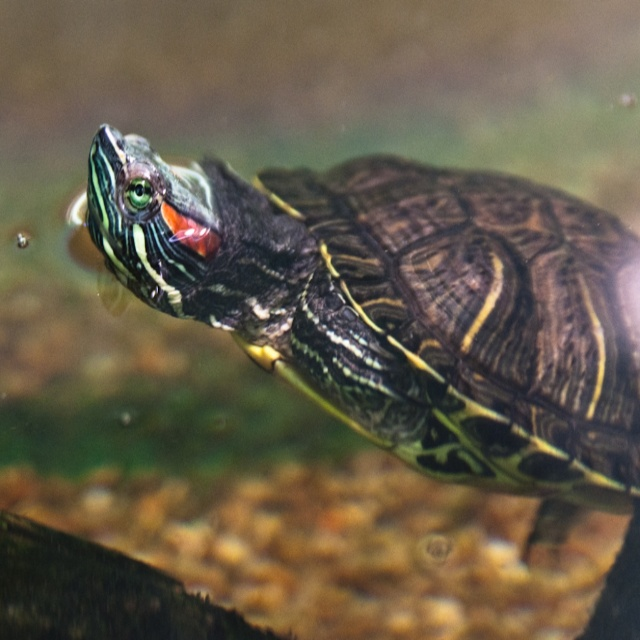Sea turtle: (65, 116, 639, 524)
